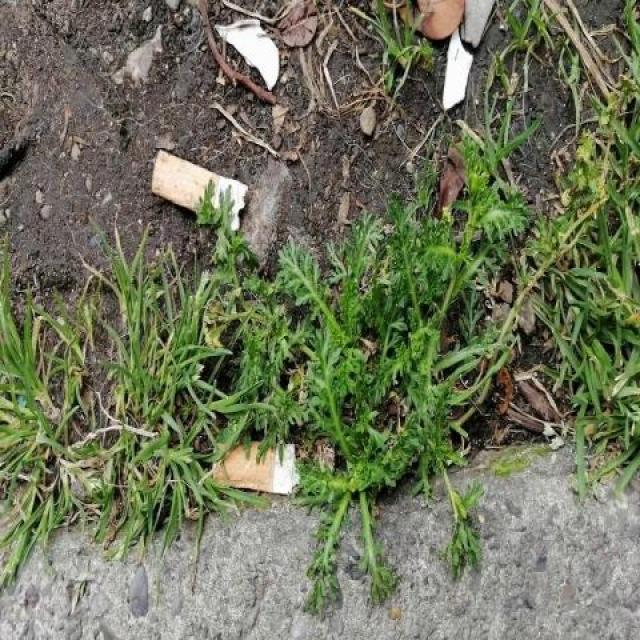non-organic waste: (150, 146, 250, 235), (210, 436, 302, 500)
